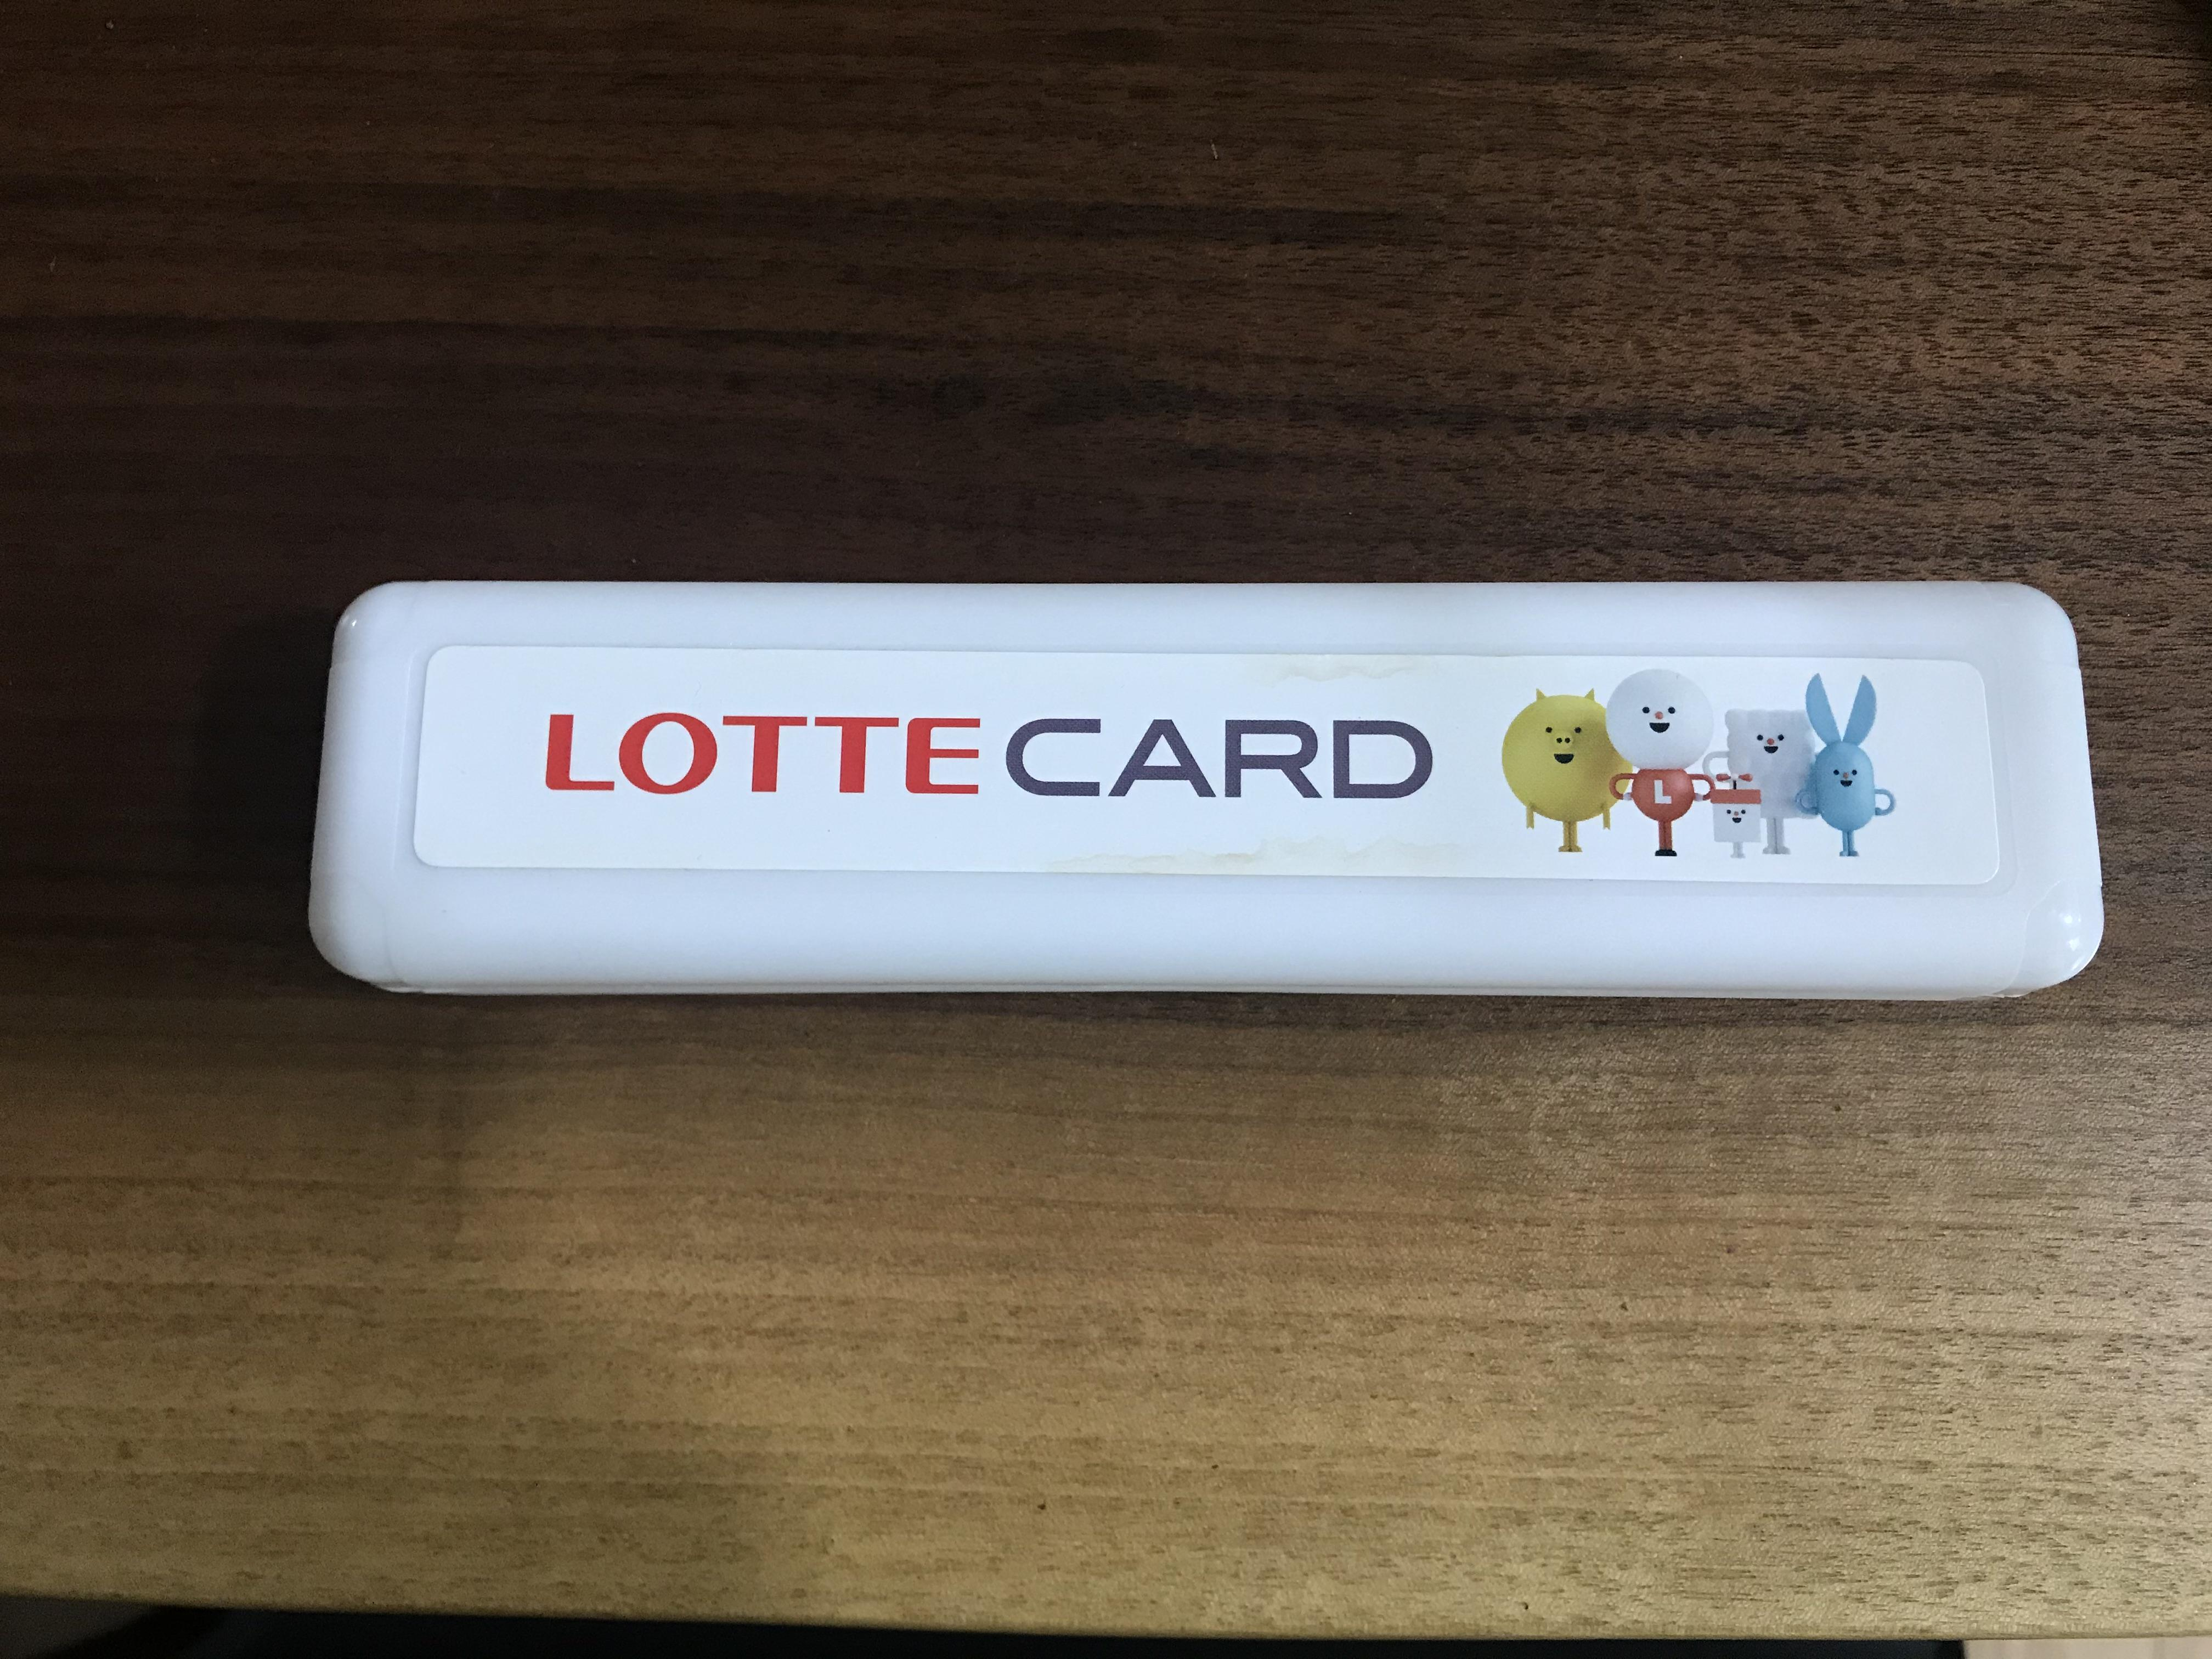bottle: (1134, 497, 1235, 999)
